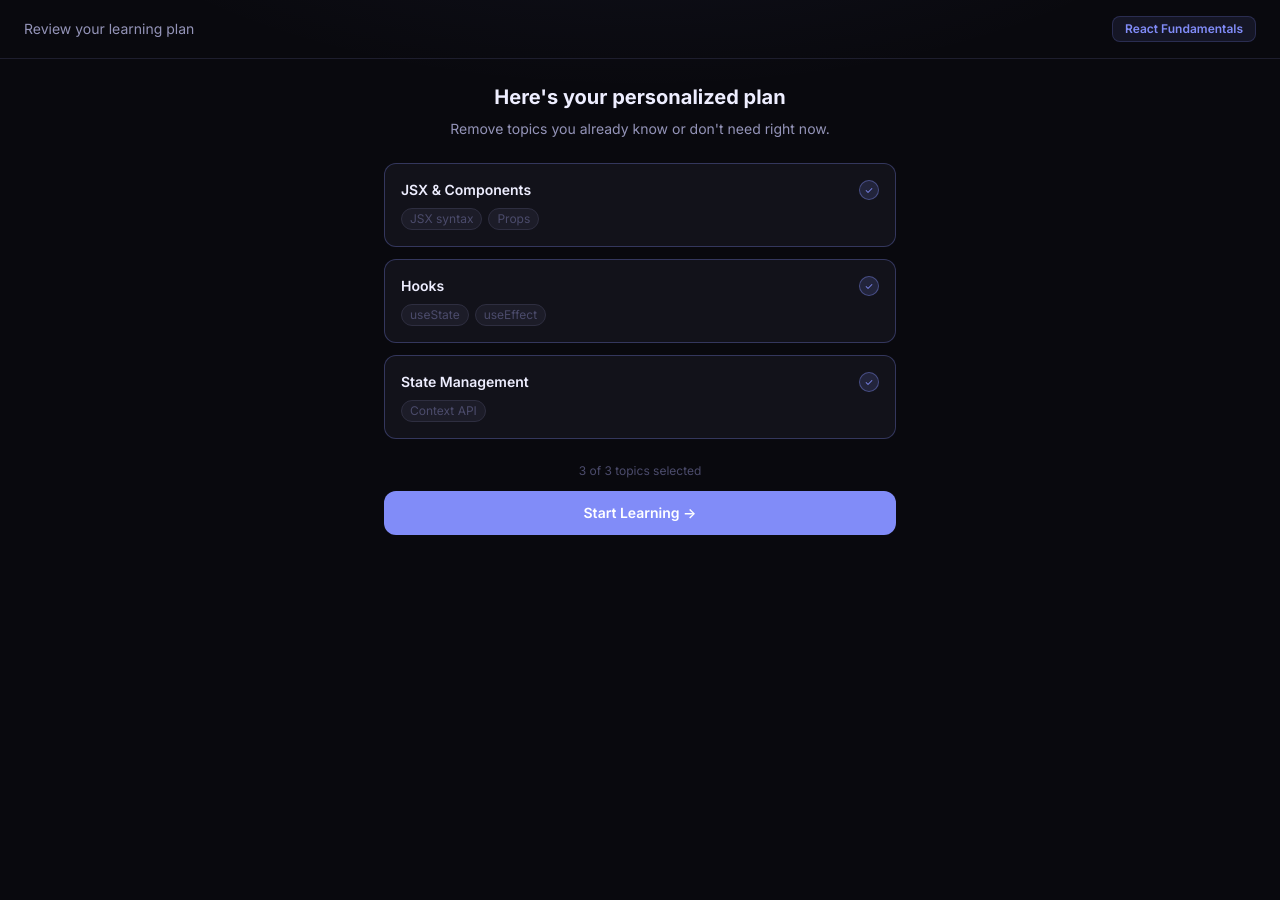
TopicApprovalScreen — toggling items › clicking an item reduces selected count
The width and height of the screenshot is (1280, 900).
Click the text "Hooks" at (423, 286), box [401,276,444,296]
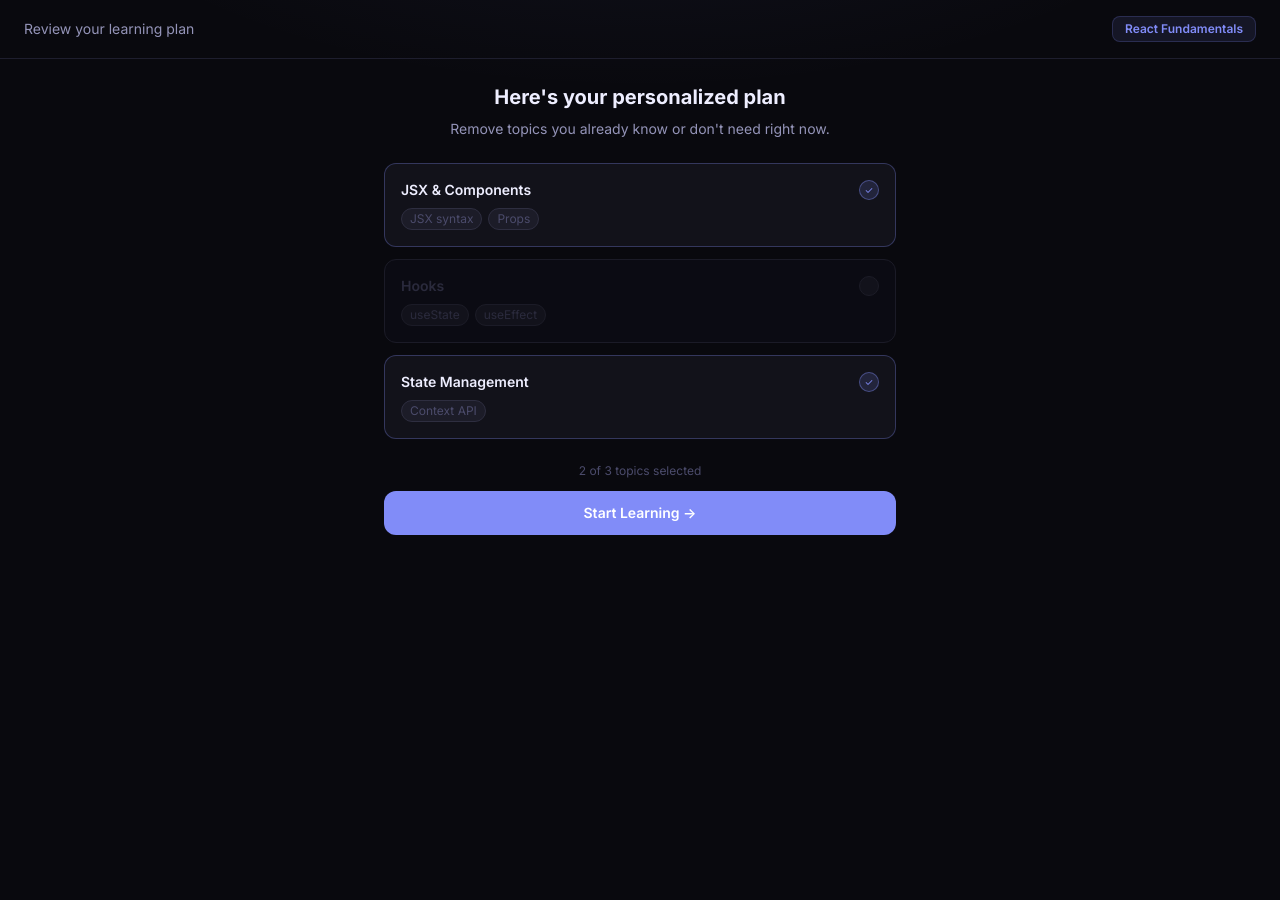
Expected: the text "2 of 3 topics selected" is shown, [579,463,701,479]
